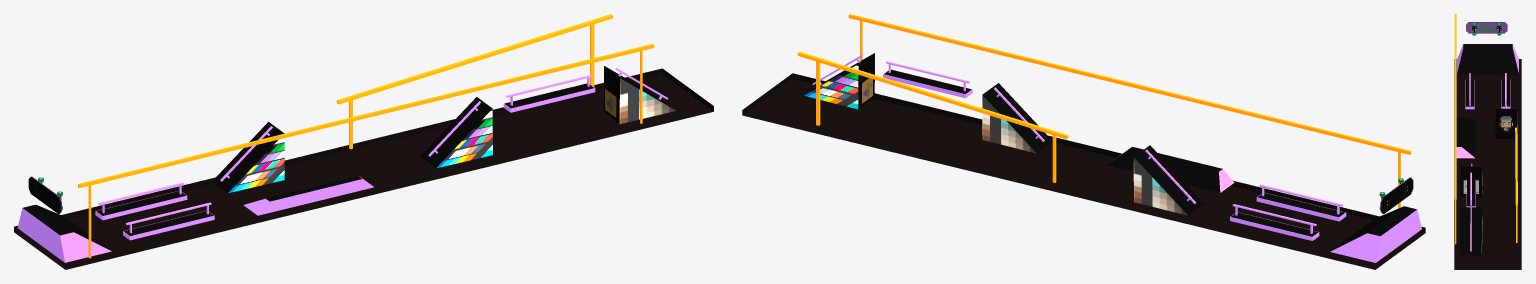
File: voxboardpark.glb
The picture shows the model from 3 angles, left to right: view 1: azimuth 30°, elevation 25°; view 2: azimuth 150°, elevation 25°; view 3: azimuth 270°, elevation 25°; orthographic projection. The views are drawn at different scales.
Visible parts, largest first — view 1: VBMDsk8park, VB LOGO BOARD; view 2: VBMDsk8park, VB LOGO BOARD; view 3: VBMDsk8park, VB LOGO BOARD.
Part boxes in pixels (x1,y1,x2,y2): VBMDsk8park: (14, 14, 713, 269); VB LOGO BOARD: (28, 176, 62, 213); VBMDsk8park: (742, 14, 1425, 269); VB LOGO BOARD: (1379, 177, 1413, 213); VBMDsk8park: (1454, 14, 1521, 269); VB LOGO BOARD: (1466, 22, 1507, 35).
Size of what is drawn, in the model's own units: 42.62 by 5.1 by 5.86.
15 materials, 15 textured.
